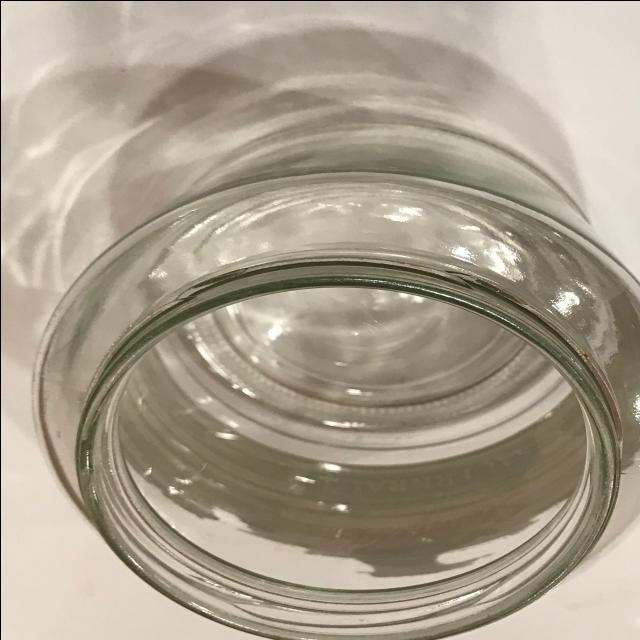glass: (36, 29, 640, 638)
